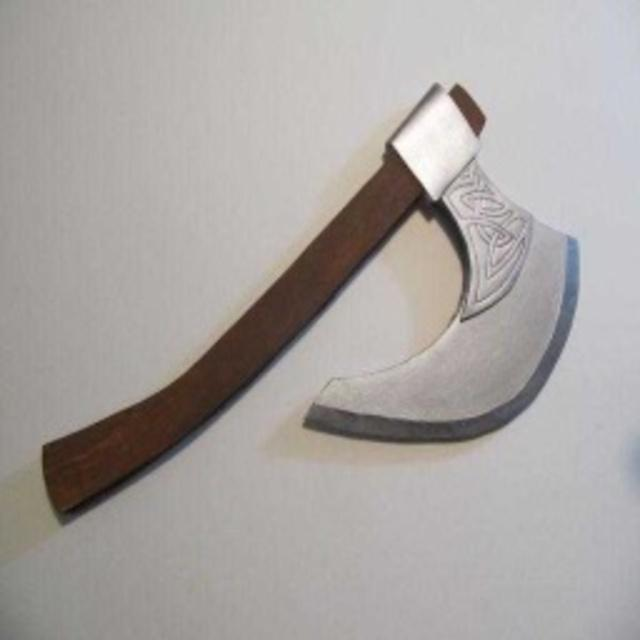ax: (34, 77, 583, 534)
